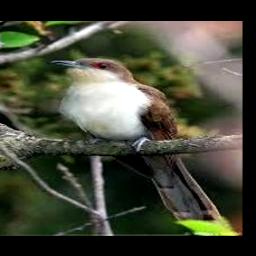Cuckoo: (48, 59, 220, 222)
